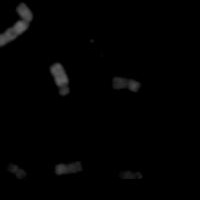chromosome: (0, 4, 32, 48), (49, 60, 71, 99), (56, 158, 83, 178), (113, 77, 141, 94)
